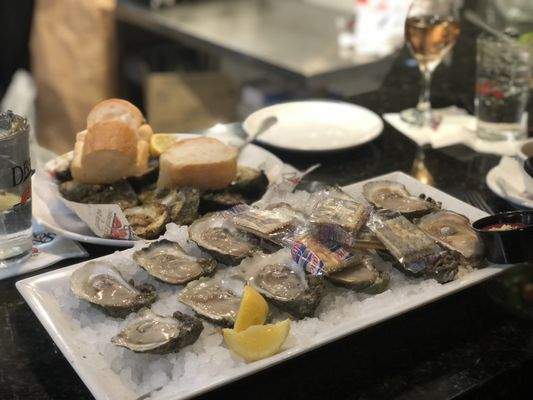soup: (367, 209, 464, 284), (417, 209, 484, 267)
sushi: (472, 210, 533, 265)
